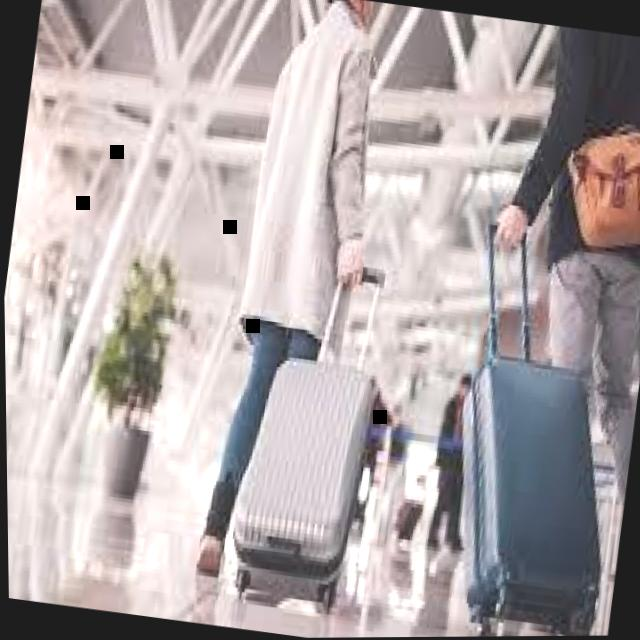luggage: (424, 339, 632, 638), (215, 344, 388, 613)
